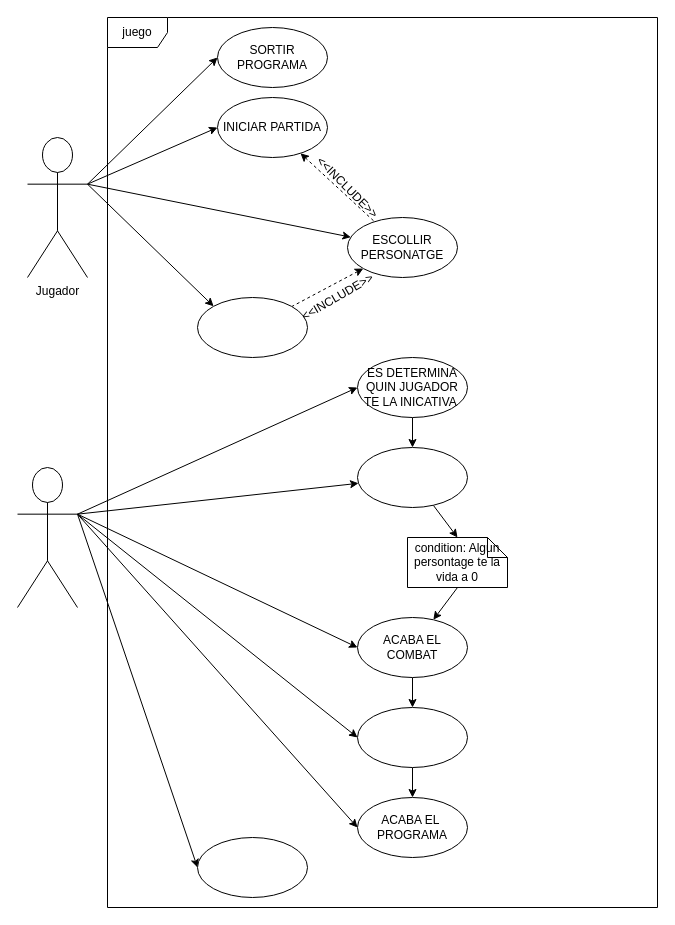
This 675x925 diagram has some shape labels left out. The shapes that lost their labels are listed below. From the top down, each one's centre as x and y in pixels, then its label:
At (252,327): "ESCOLLIR ARMA".
At (412,477): "INICIA EL COMBAT".
At (47,537): "Sistema".
At (412,737): "RECOLLIR INFORMACIO A LA BBDD".
At (252,867): "GENERAR ENEMIGO Y ARMA".
